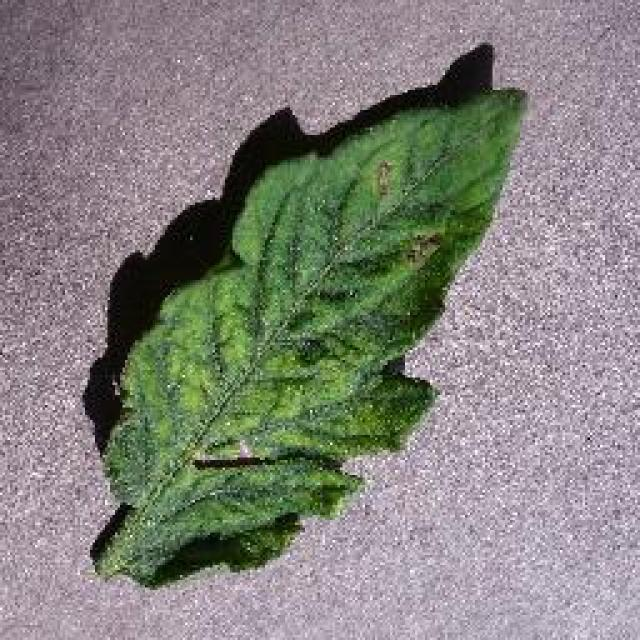Tomato spider mites leaf: (100, 85, 530, 593)
